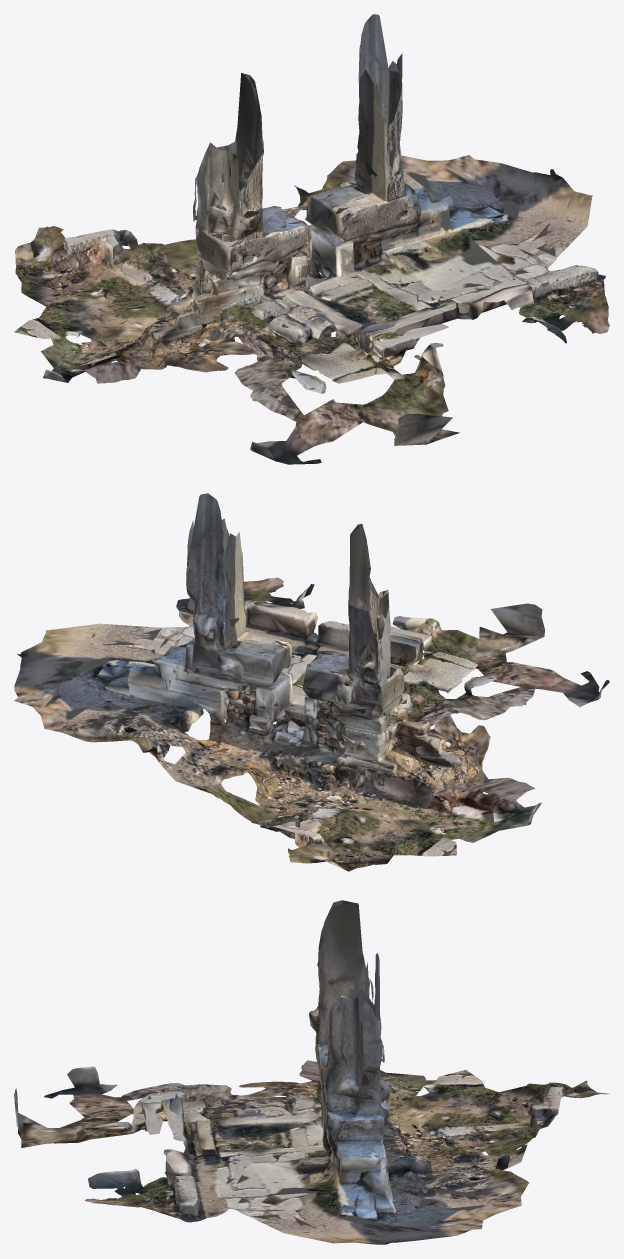
The model's file is half_temple_of_apollon_portara.glb.
3 renders of one model, top to bottom at view 1: azimuth 30°, elevation 25°; view 2: azimuth 150°, elevation 25°; view 3: azimuth 270°, elevation 25°, orthographic. The views are drawn at different scales.
Parts seen in each view (by area): view 1: Object_2; view 2: Object_2; view 3: Object_2.
Boxes of the visible parts, x1=… form: Object_2: x1=14, y1=14, x2=609, y2=464; Object_2: x1=14, y1=493, x2=609, y2=871; Object_2: x1=14, y1=900, x2=609, y2=1244.
Bounding box in the file's own units: 9.28 × 4.65 × 9.49.
1 material, 1 textured.
